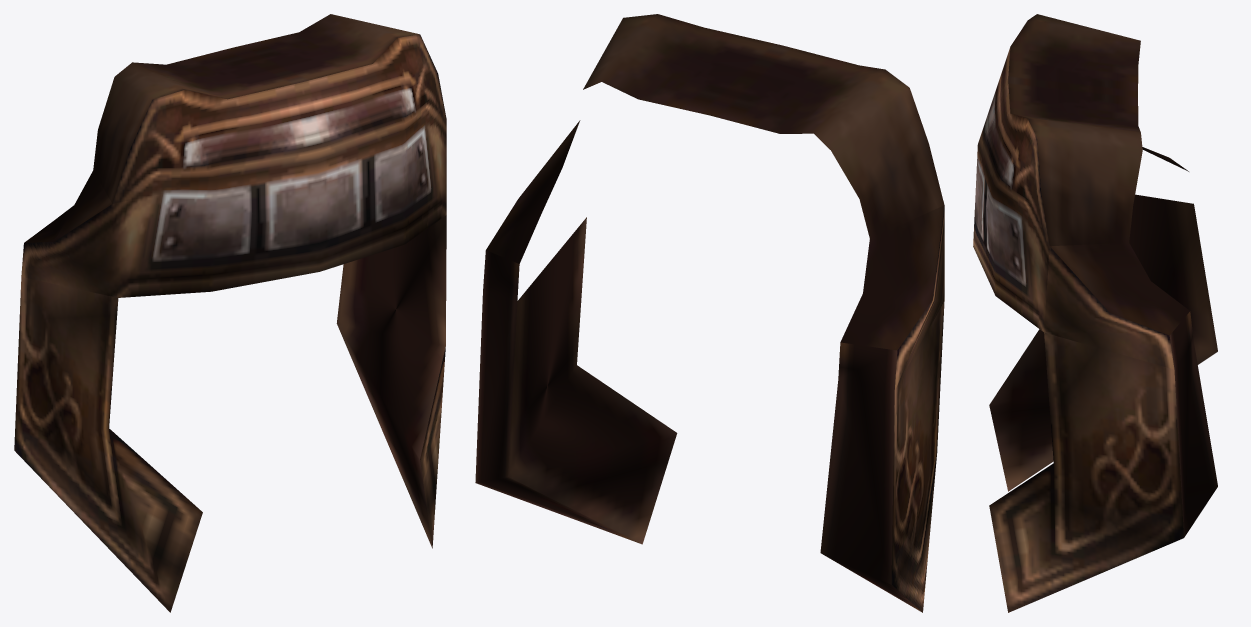
The picture shows the model from 3 angles, left to right: view 1: azimuth 30°, elevation 25°; view 2: azimuth 150°, elevation 25°; view 3: azimuth 270°, elevation 25°; orthographic projection. The views are drawn at different scales.
Parts seen in each view (by area): view 1: EM_011111_01_042; view 2: EM_011111_01_042; view 3: EM_011111_01_042.
Boxes of the visible parts, x1=… form: EM_011111_01_042: x1=14, y1=14, x2=446, y2=612; EM_011111_01_042: x1=475, y1=14, x2=944, y2=612; EM_011111_01_042: x1=973, y1=14, x2=1217, y2=612.
Size of the model in its own units: 0.1838 by 0.2302 by 0.1139.
Materials: 1 (1 with a texture image).
